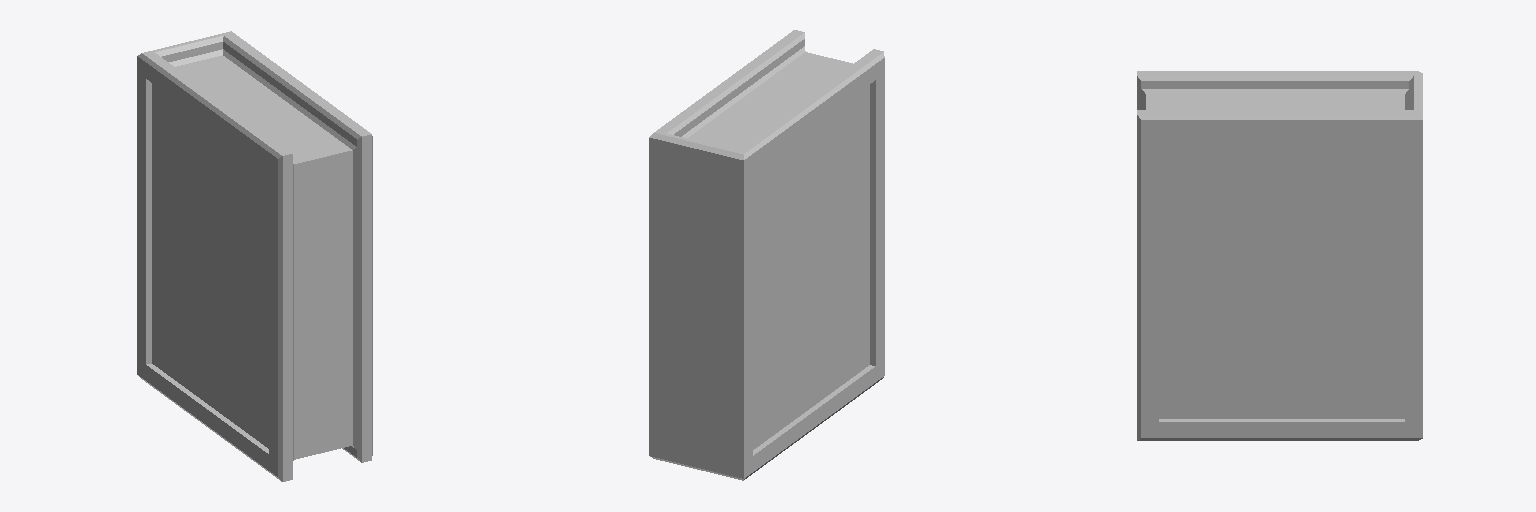
File: book.obj
3 views of the same model, side by side, from view 1: azimuth 30°, elevation 25°; view 2: azimuth 150°, elevation 25°; view 3: azimuth 270°, elevation 25° (orthographic).
Visible parts, largest first — view 1: pCube5; view 2: pCube5; view 3: pCube5.
Part boxes in pixels (left/top/right/bottom): pCube5: left=137, top=31, right=372, bottom=481; pCube5: left=649, top=30, right=884, bottom=480; pCube5: left=1137, top=71, right=1422, bottom=440.
Bounding box in the file's own units: 0.3032 × 1 × 0.7938.